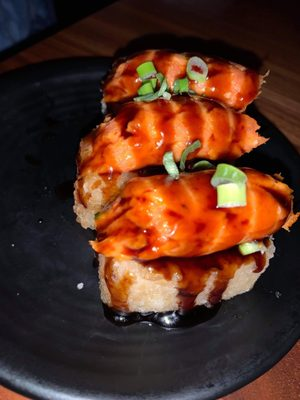soup: (73, 42, 300, 321)
